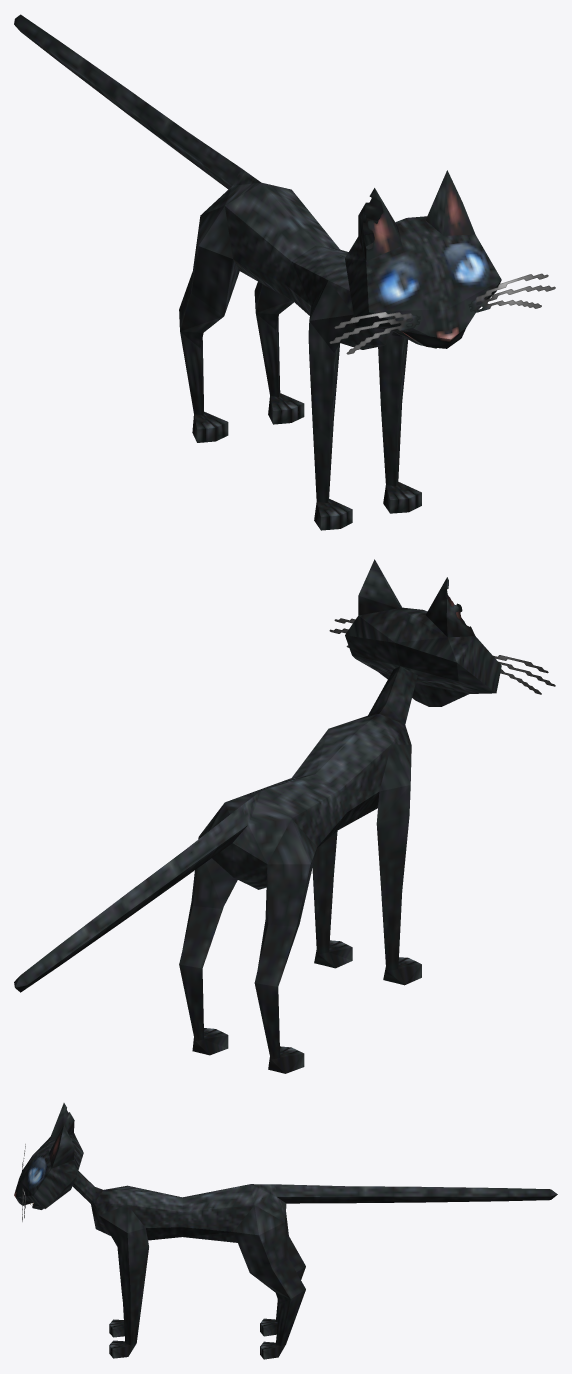
File: Cat.obj
3 views of the same model, one above another, from view 1: azimuth 30°, elevation 25°; view 2: azimuth 150°, elevation 25°; view 3: azimuth 270°, elevation 25° (orthographic). The views are drawn at different scales.
Parts seen in each view (by area): view 1: Cat_1, Cat; view 2: Cat_1; view 3: Cat_1, Cat.
Boxes of the visible parts, bbox=[...] form: Cat_1: bbox=[14, 14, 555, 530]; Cat: bbox=[366, 234, 501, 312]; Cat_1: bbox=[14, 559, 555, 1073]; Cat_1: bbox=[14, 1103, 557, 1359]; Cat: bbox=[19, 1137, 51, 1195].
Bounding box in the file's own units: 4.37 × 6.76 × 14.5.
Materials: 2 (2 with a texture image).
